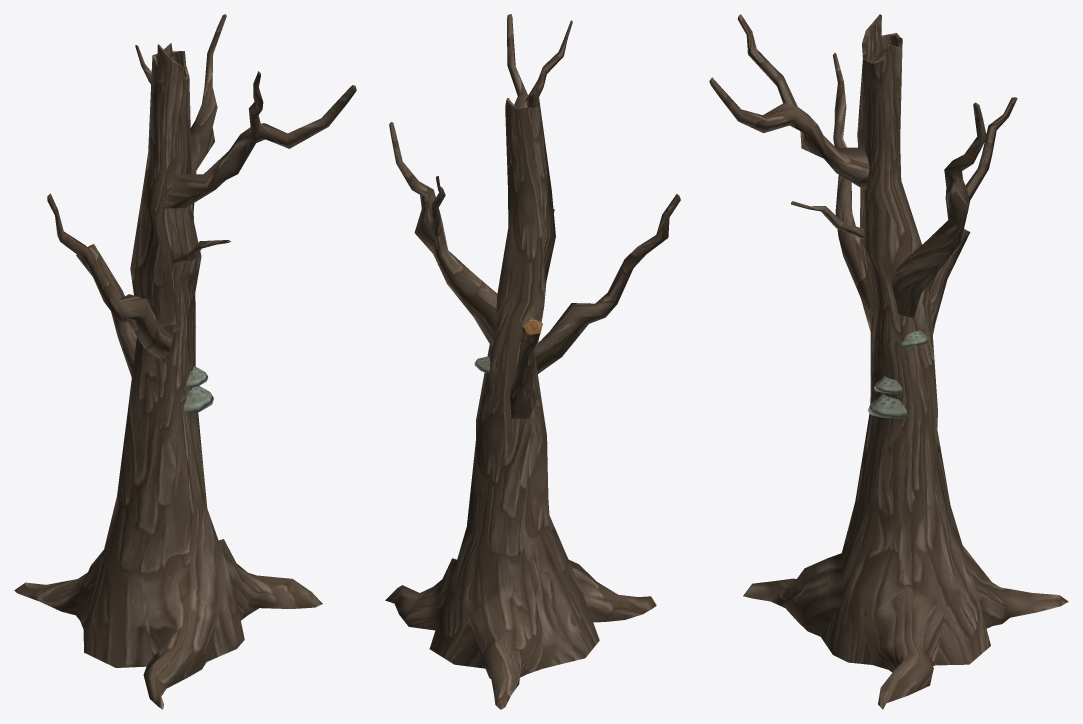
File: Tree_Dead3.fbx
The picture shows the model from 3 angles, left to right: view 1: azimuth 30°, elevation 25°; view 2: azimuth 150°, elevation 25°; view 3: azimuth 270°, elevation 25°; orthographic projection. The views are drawn at different scales.
Visible parts, largest first — view 1: polySurface490; view 2: polySurface490; view 3: polySurface490.
Boxes of the visible parts, x1,y1,x2,y2 form: polySurface490: (14, 14, 356, 709); polySurface490: (385, 14, 680, 709); polySurface490: (709, 14, 1068, 709).
Size of the model in its own units: 2.66 by 5.24 by 2.71.
1 material, 1 textured.
